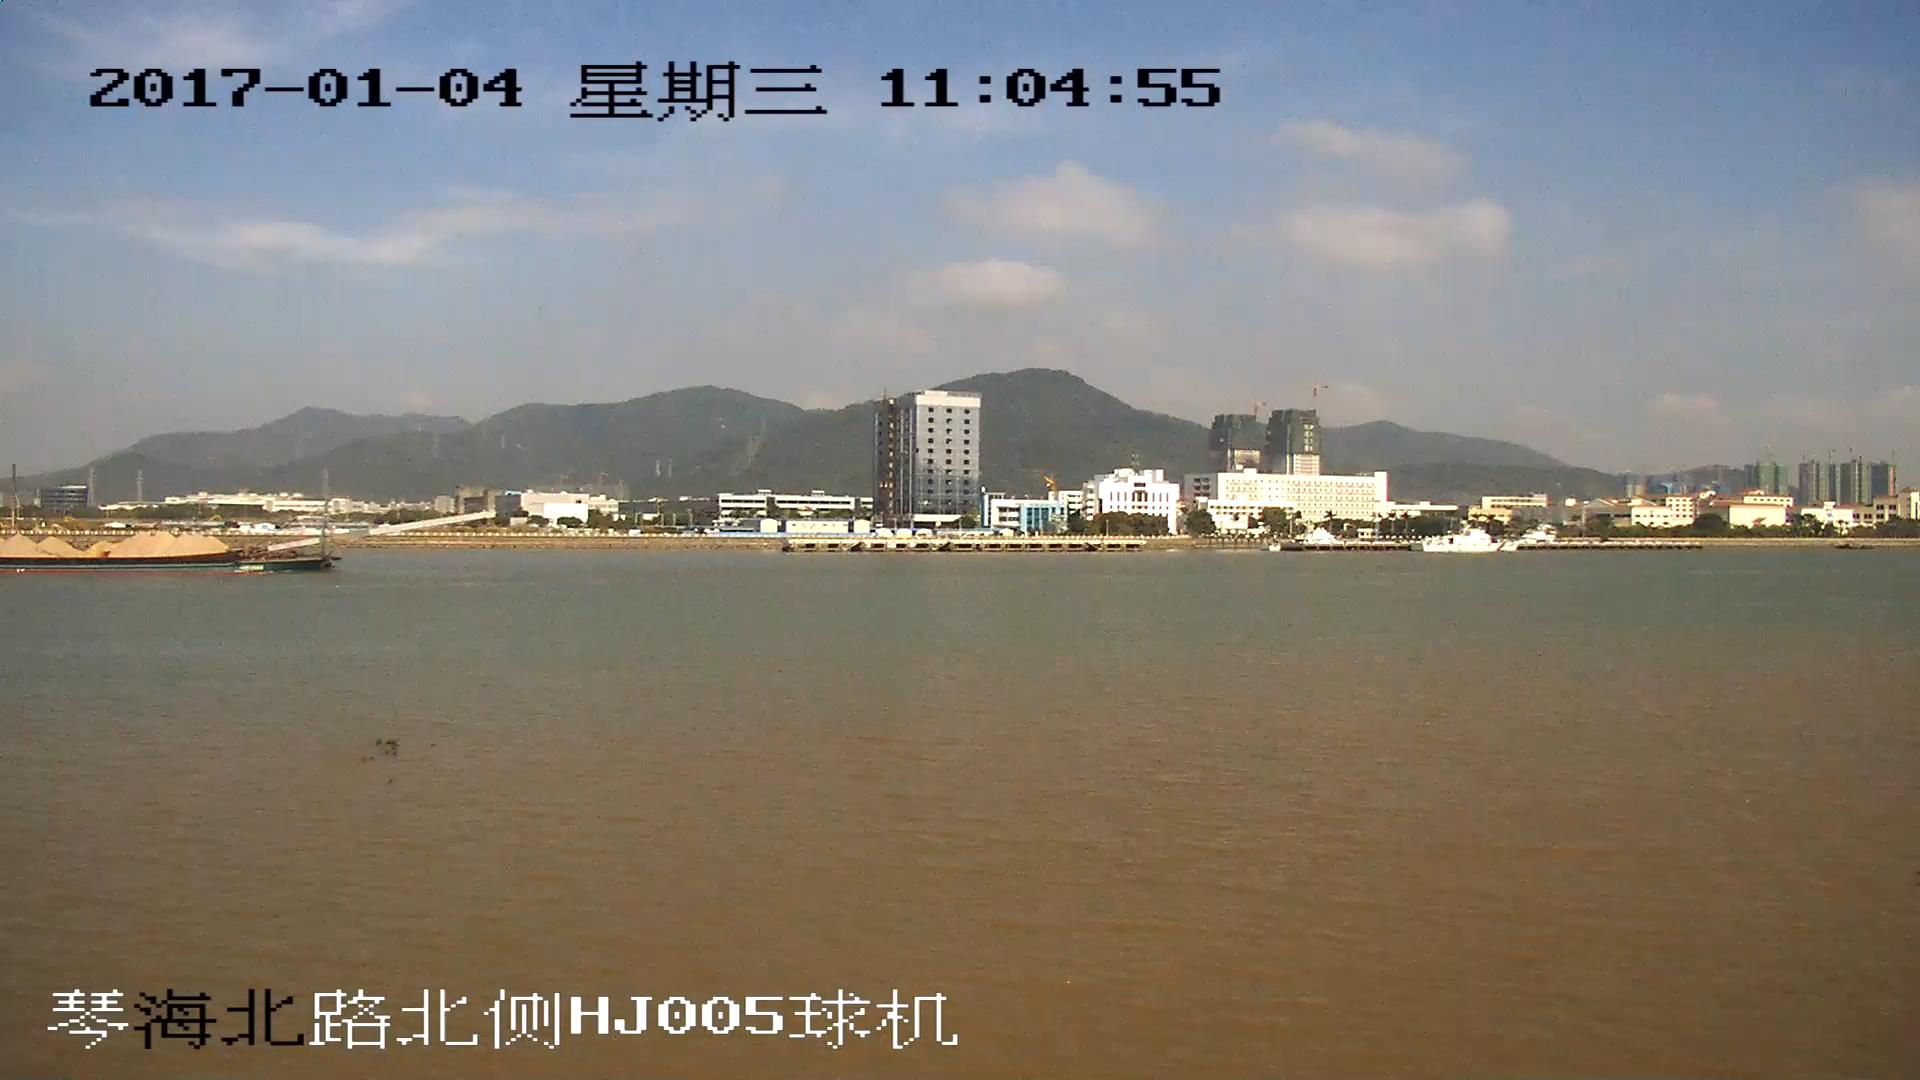ore carrier: (1, 509, 491, 578)
